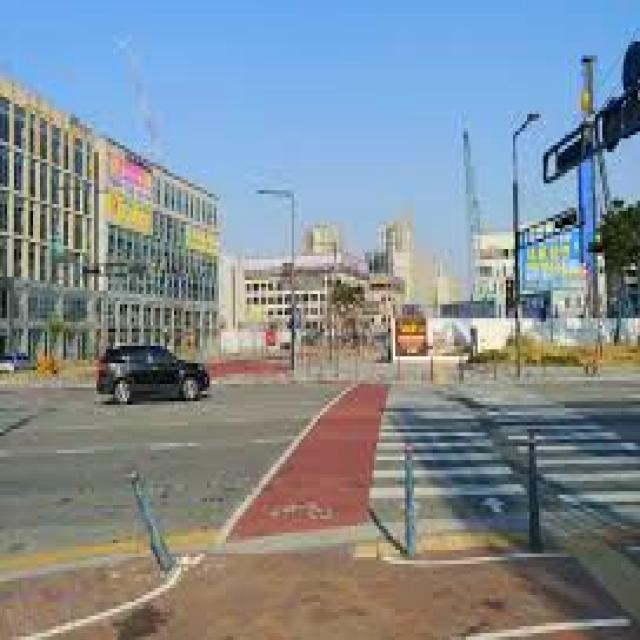bollard: (123, 454, 176, 580), (522, 421, 544, 554), (399, 428, 419, 566)
